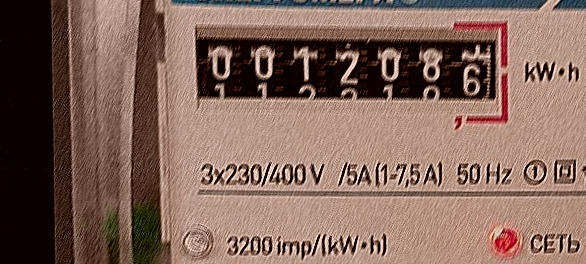0: (206, 43, 232, 82), (250, 44, 274, 82), (375, 46, 399, 83)
1: (292, 45, 313, 84)
2: (334, 49, 360, 87)
6: (457, 62, 480, 98)
8: (416, 47, 441, 84)
screen: (185, 15, 516, 133)
